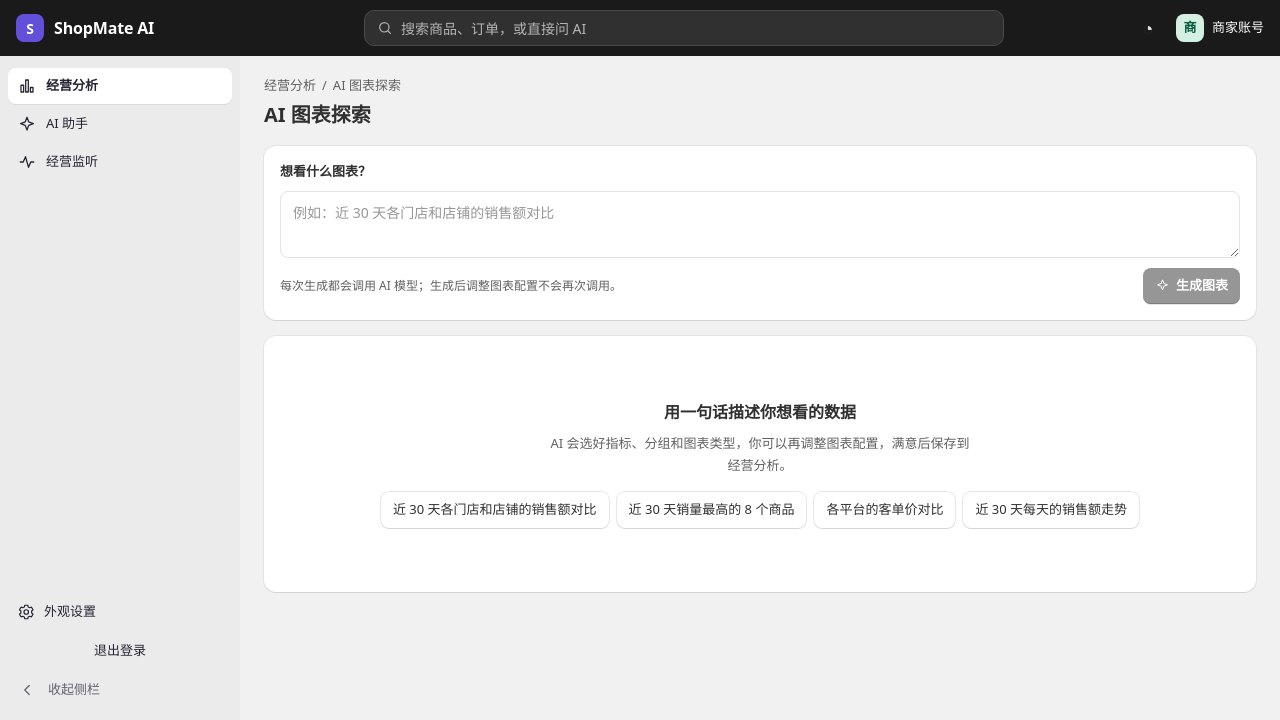
it: ExploreClient › shows a retry for generation failures without retrying automatically
The width and height of the screenshot is (1280, 720).
Type "销售额" into the text box labelled "想看什么图表？" at [760, 224], box [280,191,1240,258]
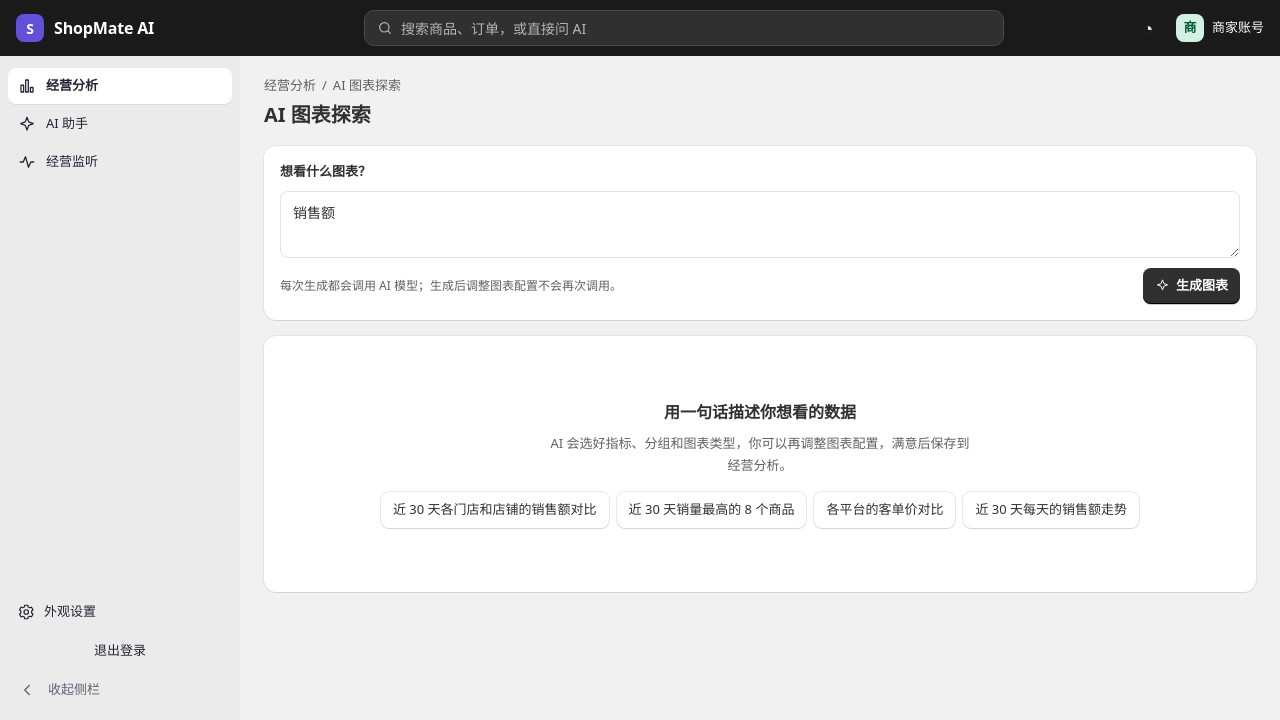
Click the button "生成图表" at [1192, 286], box [1143,268,1240,304]
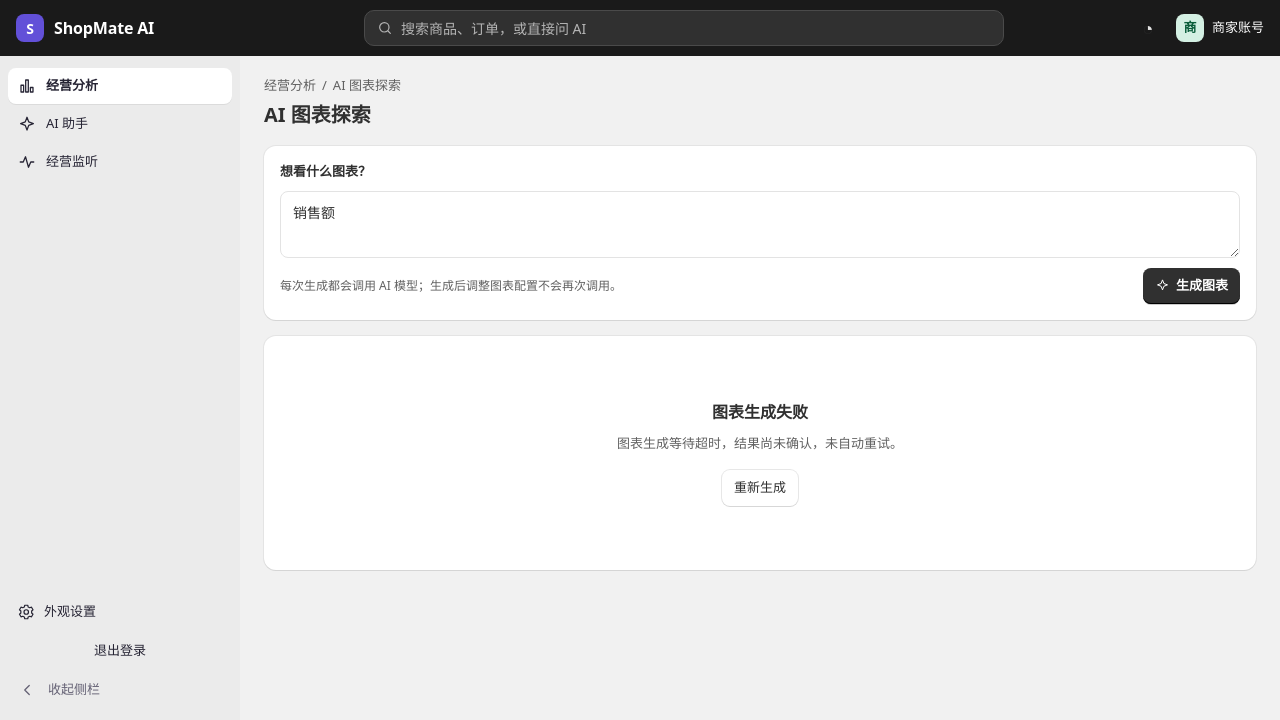
Now the message shows "未自动重试", box [617,434,903,452]
Now the button "重新生成" is shown, box [722,470,798,506]
